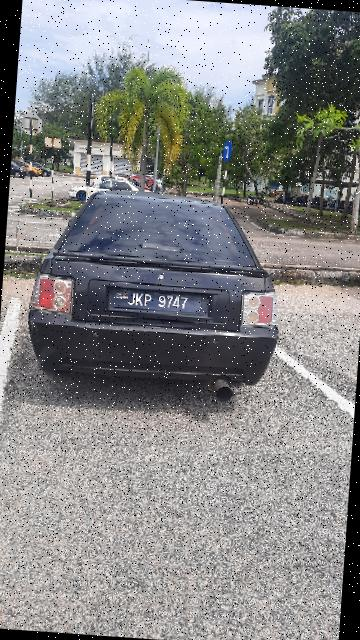License_Plate: (107, 284, 209, 320)
car: (23, 181, 293, 411)
